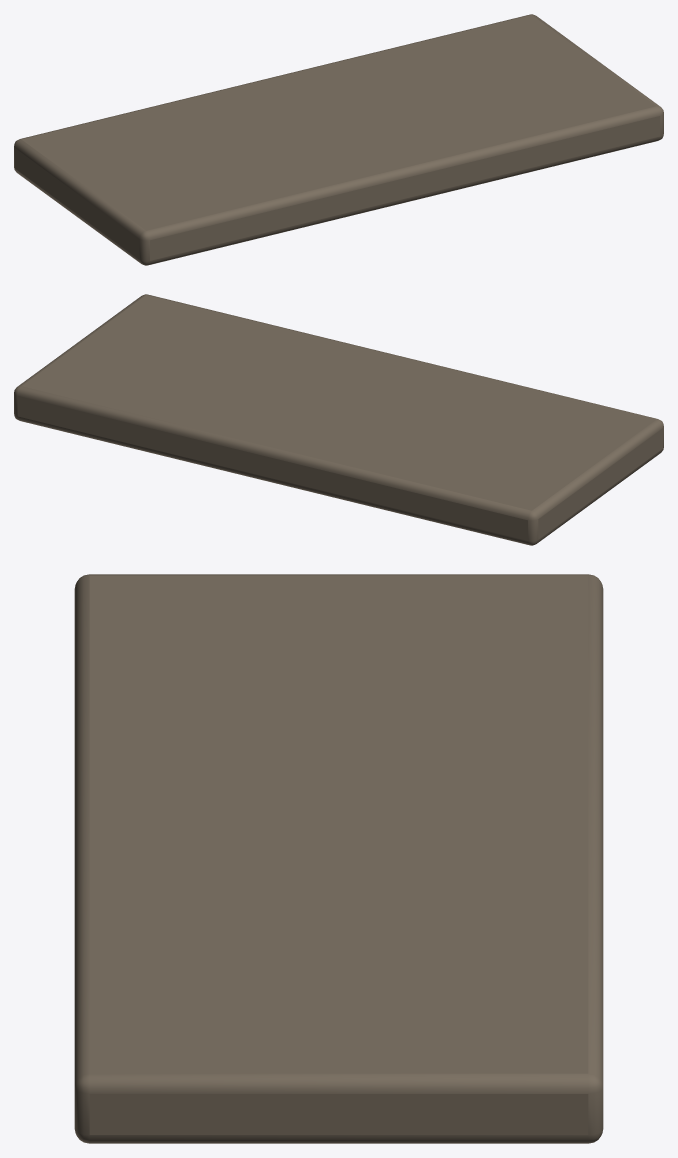
File: shi-daze-council-wet-register-interaction-v1-prop.glb
The picture shows the model from 3 angles, top to bottom: view 1: azimuth 30°, elevation 25°; view 2: azimuth 150°, elevation 25°; view 3: azimuth 270°, elevation 25°; orthographic projection. The views are drawn at different scales.
Parts seen in each view (by area): view 1: SM_SHI_DazeCouncil_WetRegister_Blockout_01.001; view 2: SM_SHI_DazeCouncil_WetRegister_Blockout_01.001; view 3: SM_SHI_DazeCouncil_WetRegister_Blockout_01.001.
Boxes of the visible parts, box(x1,y1,x2,y2) form: SM_SHI_DazeCouncil_WetRegister_Blockout_01.001: box(14, 14, 663, 265); SM_SHI_DazeCouncil_WetRegister_Blockout_01.001: box(14, 294, 663, 545); SM_SHI_DazeCouncil_WetRegister_Blockout_01.001: box(74, 574, 603, 1143).
Size of the model in its own units: 0.32 by 0.02 by 0.14.
